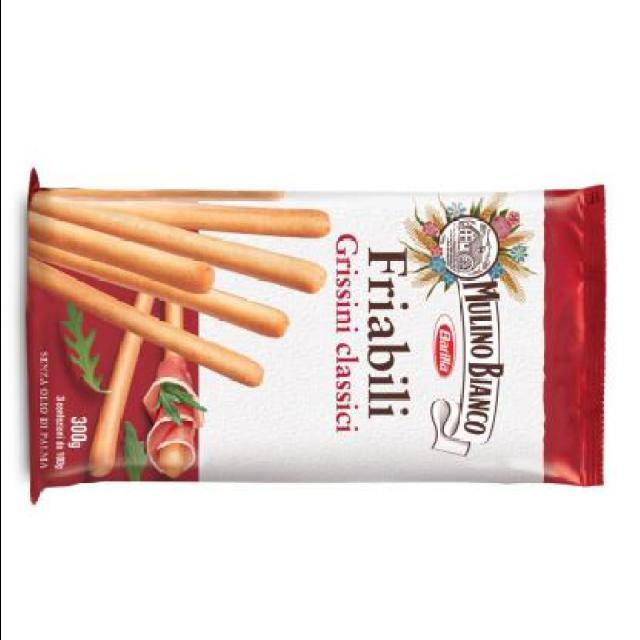Grissini: (30, 205, 330, 386)
